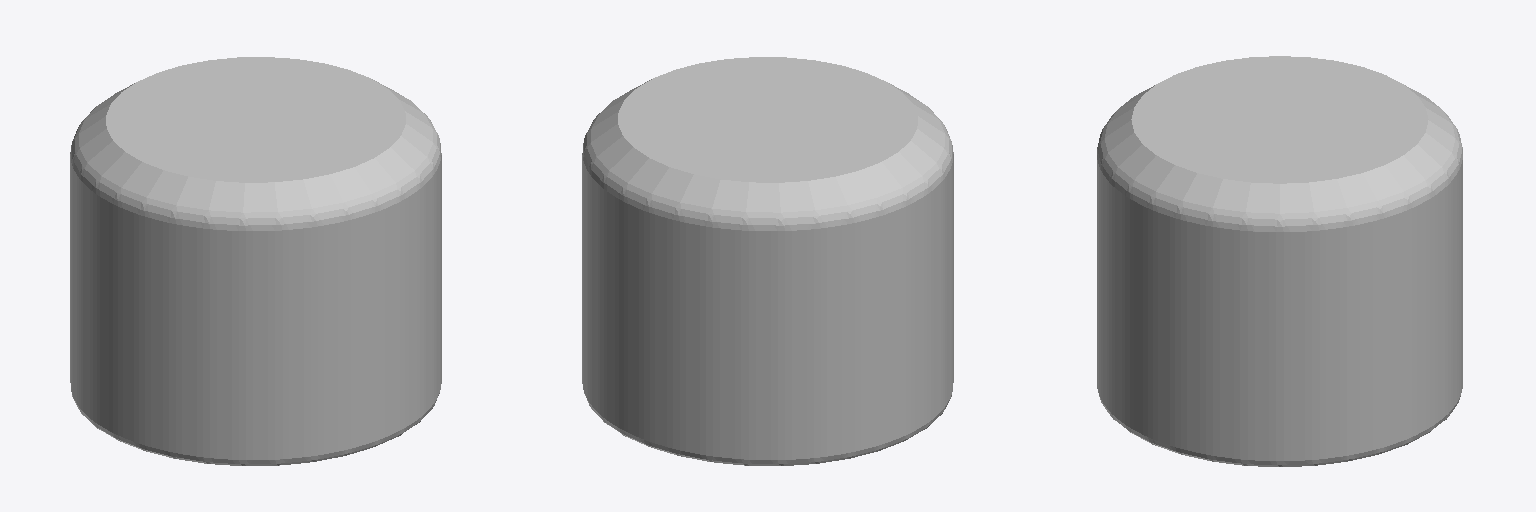
The model's file is CylinderBouncers.obj.
3 renders of one model, left to right at view 1: azimuth 30°, elevation 25°; view 2: azimuth 150°, elevation 25°; view 3: azimuth 270°, elevation 25°, orthographic.
Visible parts, largest first — view 1: Cylinder; view 2: Cylinder; view 3: Cylinder.
Boxes of the visible parts, <box> form: Cylinder: <box>70,57,441,465</box>; Cylinder: <box>582,57,953,465</box>; Cylinder: <box>1097,56,1462,466</box>.
Size of the model in its own units: 3.11 by 2.51 by 3.06.